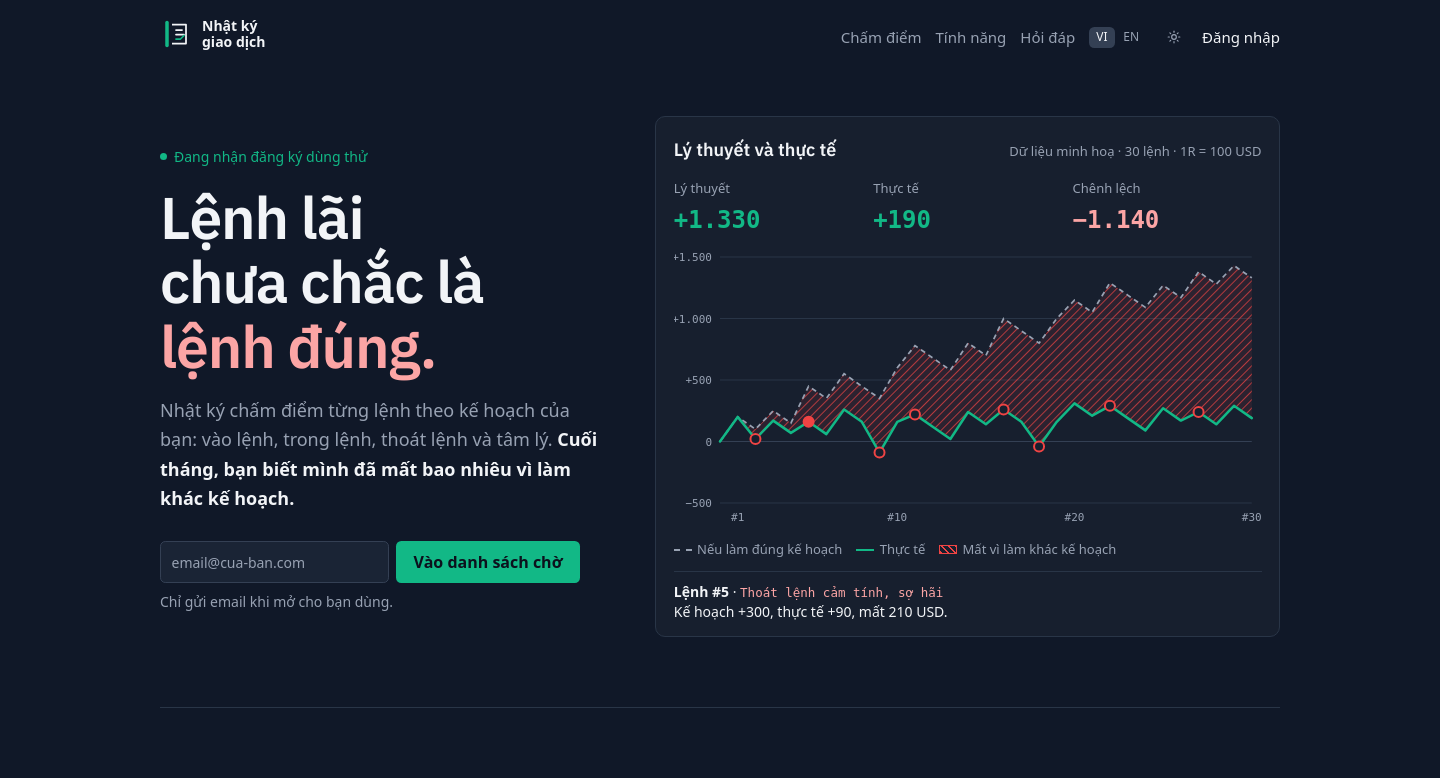
Test: shows the server message on 429
The image size is (1440, 778).
Type "toi@gmail.com" into the field labelled "email" at [275, 562], box [160,541,389,583]
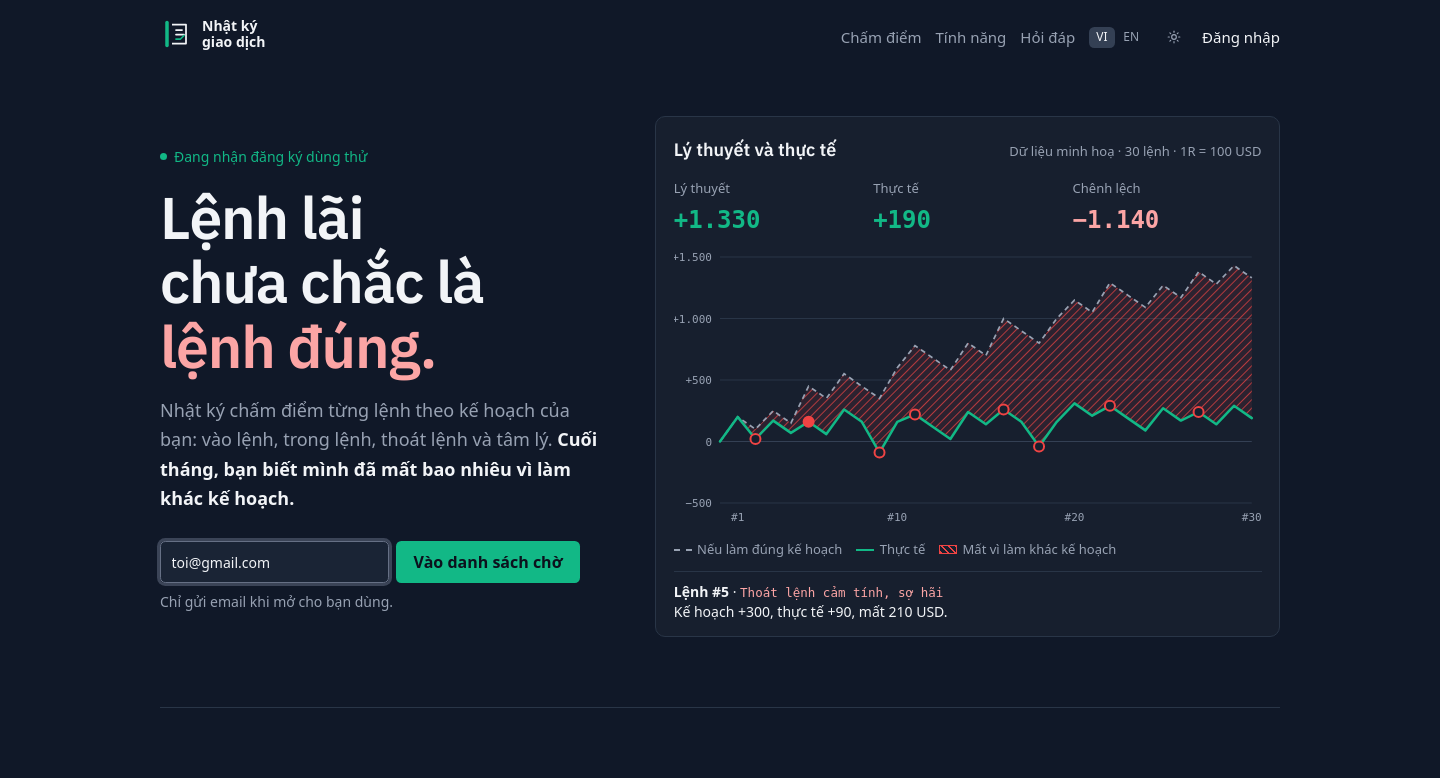
Click the button "Vào danh sách chờ" at [488, 562], box [396,541,580,583]
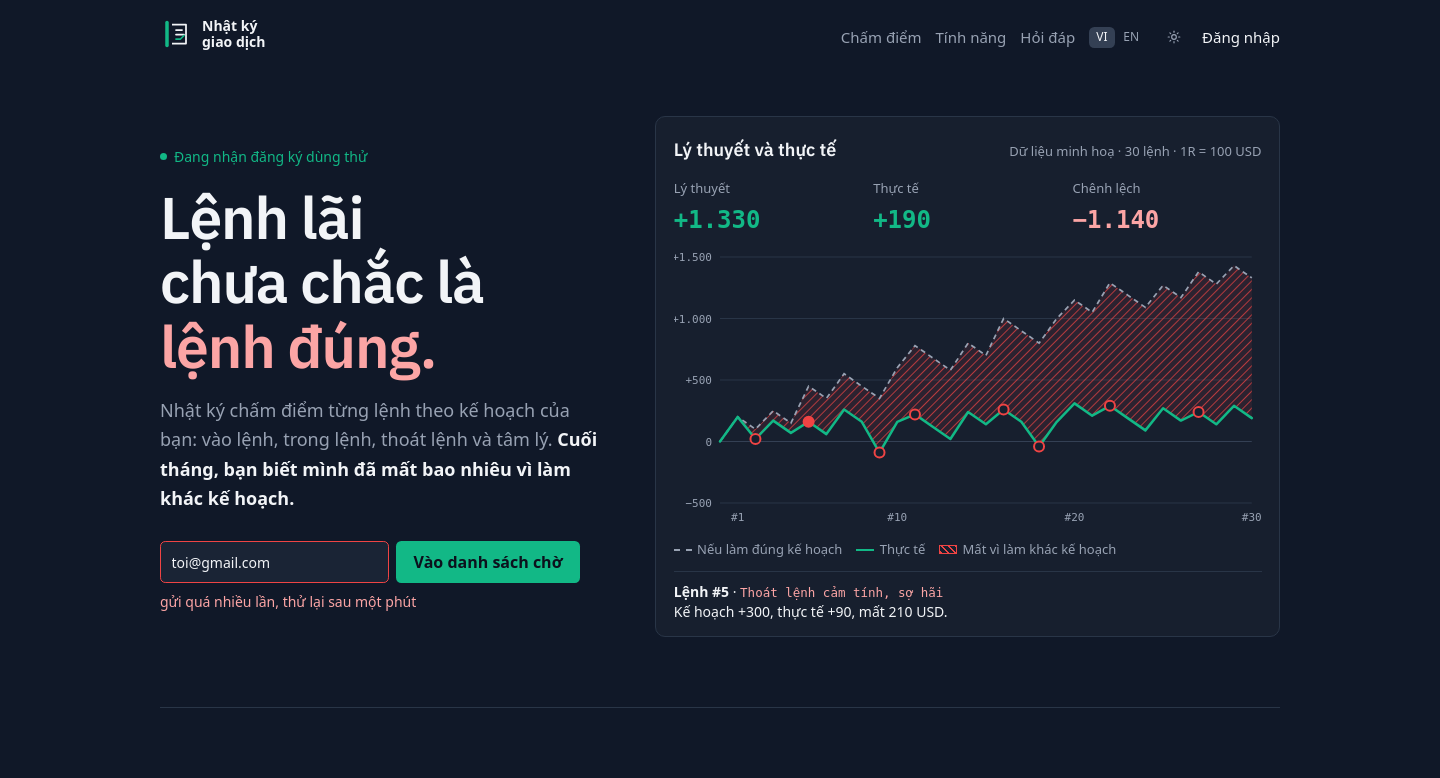
Result: the message reads "gửi quá nhiều lần, thử lại sau một phút" at [160,592,416,611]
